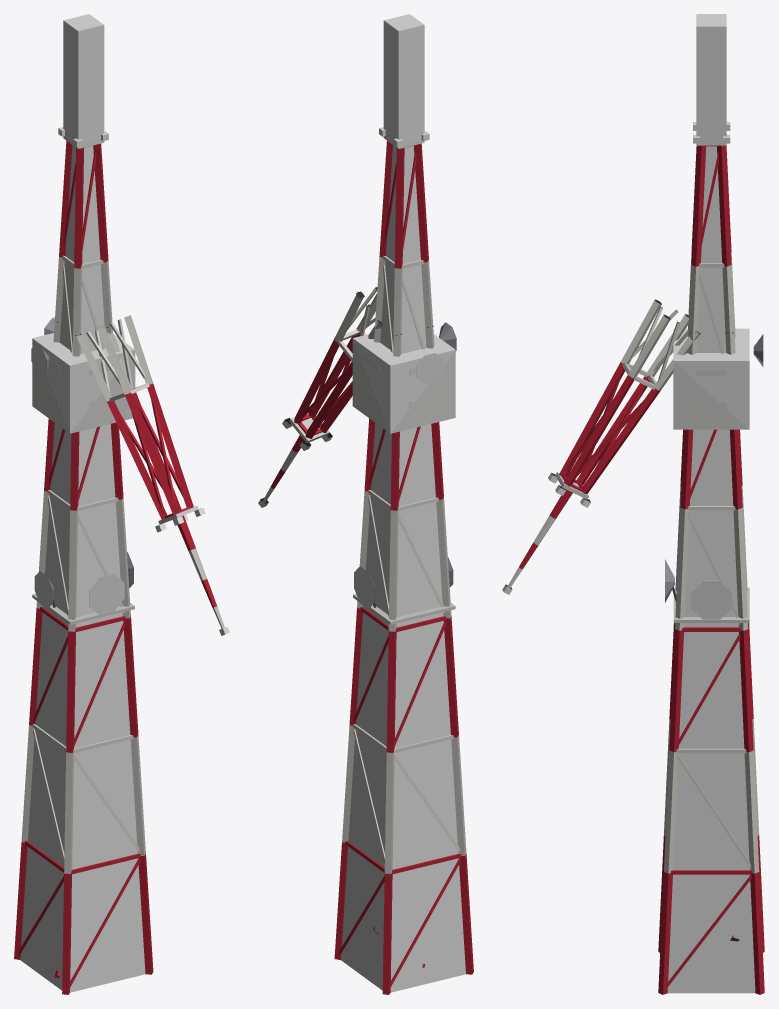
Rendered from lm_signal_mast.glb.
3 views of the same model, side by side, from view 1: azimuth 30°, elevation 25°; view 2: azimuth 210°, elevation 25°; view 3: azimuth 270°, elevation 25° (orthographic).
Parts seen in each view (by area): view 1: damaged, intact, chunk_00, chunk_01, chunk_07, chunk_02, chunk_03, chunk_04, chunk_06, chunk_11, chunk_05, chunk_08 (+2 smaller); view 2: damaged, intact, chunk_00, chunk_01, chunk_07, chunk_04, chunk_02, chunk_03, chunk_06, chunk_11, chunk_05, chunk_08 (+2 smaller); view 3: damaged, intact, chunk_00, chunk_01, chunk_07, chunk_02, chunk_03, chunk_04, chunk_06, chunk_11, chunk_05, chunk_08 (+2 smaller).
Boxes of the visible parts, x1,y1,x2,y2 form: damaged: (14,315,229,994); intact: (29,21,138,752); chunk_00: (20,881,145,992); chunk_01: (25,793,140,910); chunk_07: (32,333,135,433); chunk_02: (31,731,134,819); chunk_03: (35,661,130,754); chunk_04: (39,562,126,682); chunk_06: (50,423,115,518); chunk_11: (63,14,104,116); chunk_05: (45,503,119,580); chunk_08: (59,262,105,353); damaged: (258,287,473,994); intact: (349,21,458,752); chunk_00: (341,881,465,992); chunk_01: (346,793,460,910); chunk_07: (352,334,455,433); chunk_04: (360,562,446,682); chunk_02: (351,731,455,819); chunk_03: (355,661,451,754); chunk_06: (370,423,436,518); chunk_11: (383,14,424,116); chunk_05: (366,503,440,580); chunk_08: (380,262,426,353); damaged: (502,299,764,994); intact: (665,19,753,752); chunk_00: (667,911,755,993); chunk_01: (671,820,751,911); chunk_07: (673,328,749,429); chunk_02: (675,755,747,819); chunk_03: (678,683,744,755); chunk_04: (681,580,741,682); chunk_06: (689,429,733,518); chunk_11: (696,14,726,113); chunk_05: (686,518,736,579); chunk_08: (696,269,726,352).
Bounding box in the file's own units: 16.21 × 160 × 39.98.
